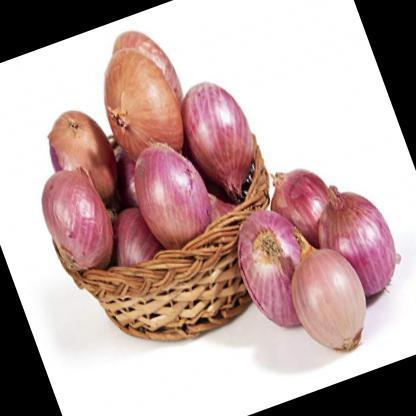onion: (82, 28, 190, 164), (28, 154, 129, 284), (122, 134, 220, 252)
